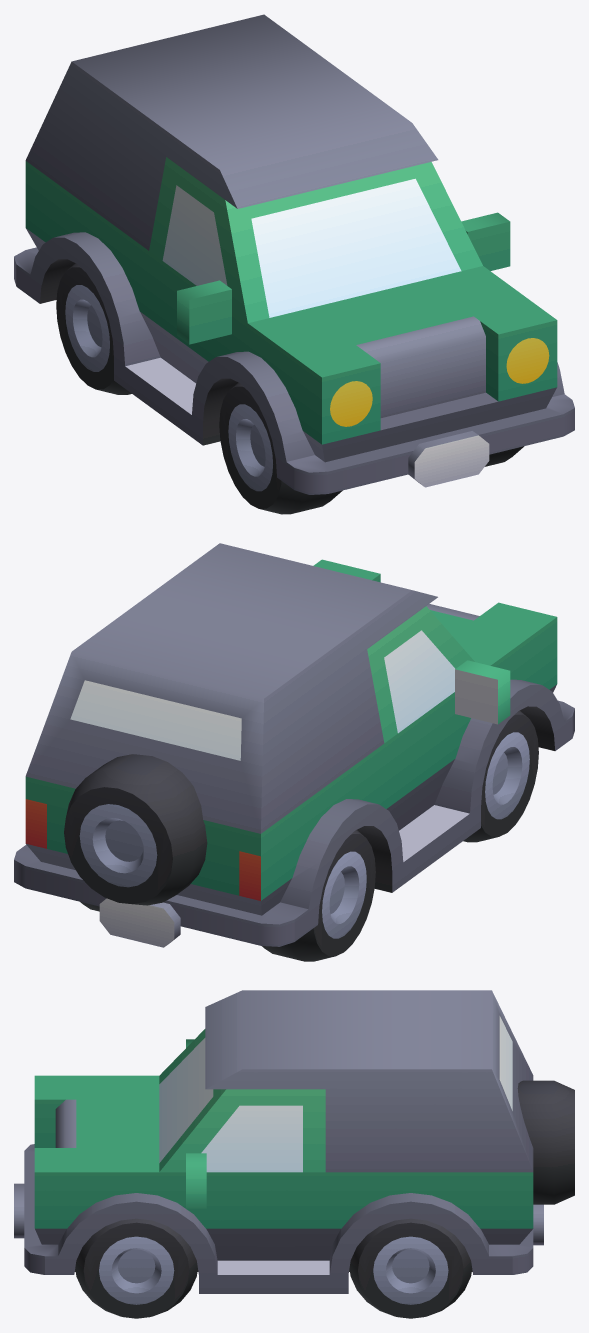
File: kenney-suv.glb
3 views of the same model, one above another, from view 1: azimuth 30°, elevation 25°; view 2: azimuth 150°, elevation 25°; view 3: azimuth 270°, elevation 25° (orthographic). The views are drawn at different scales.
Visible parts, largest first — view 1: body; view 2: body; view 3: body.
Boxes of the visible parts, bbox=[...] form: body: bbox=[14, 14, 574, 514]; body: bbox=[14, 543, 574, 961]; body: bbox=[14, 990, 574, 1318].
Bounding box in the file's own units: 1.5 × 1.3 × 2.7.
1 material, 1 textured.
